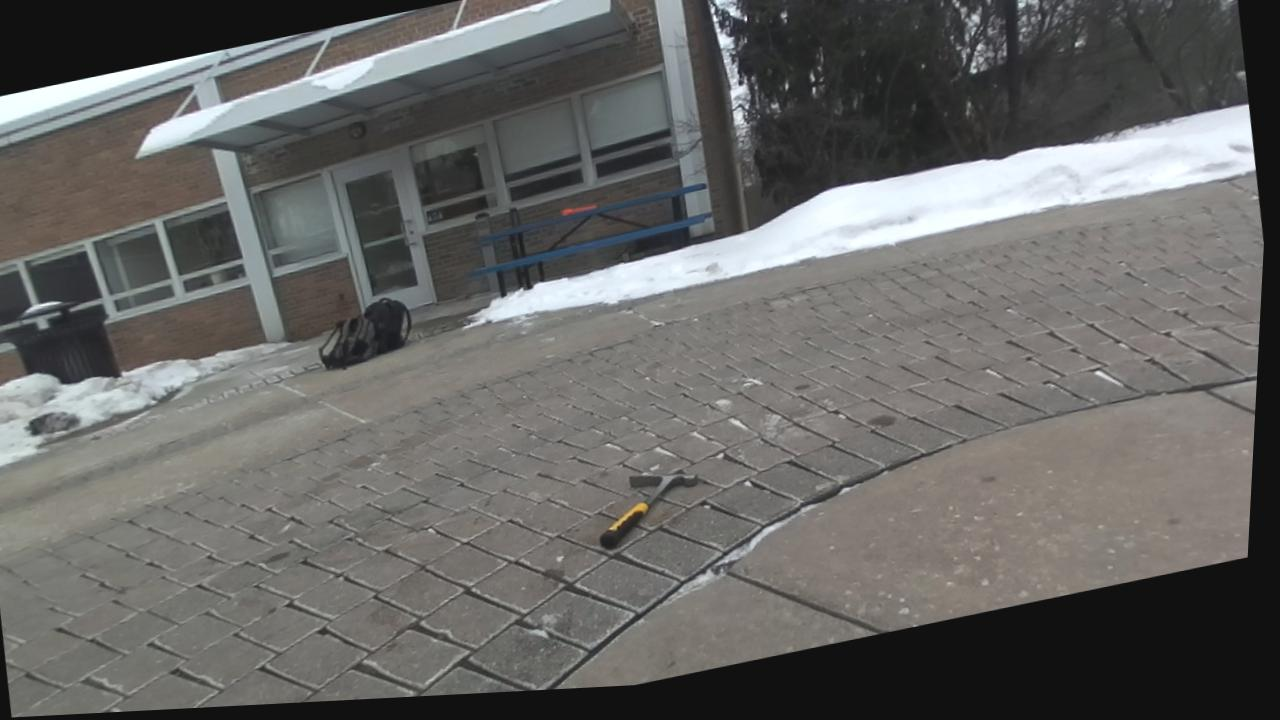pick: (600, 472, 699, 547)
